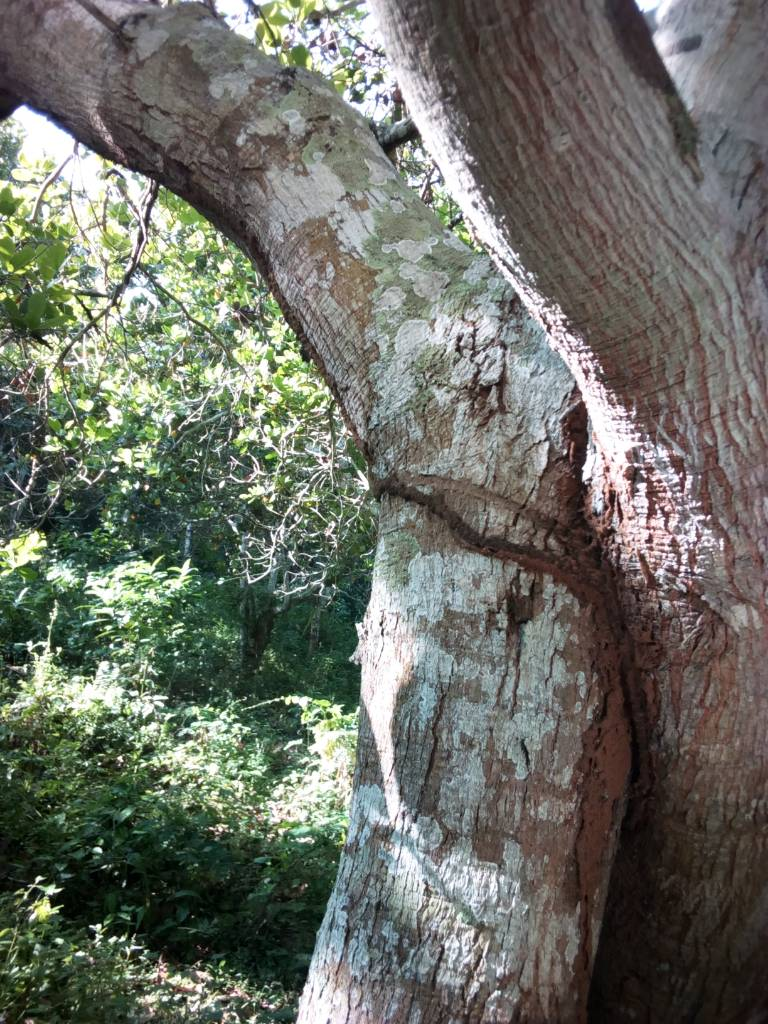Termites: (522, 461, 660, 939)
